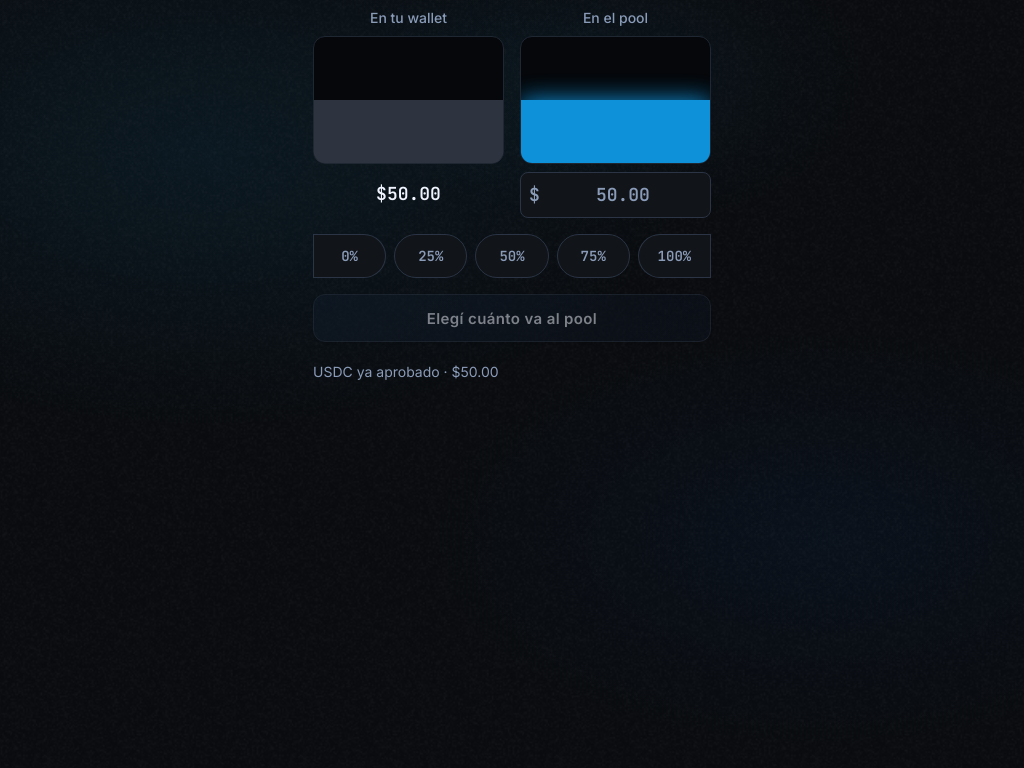
Test case: MoveScreen › clearing the input goes back to rest
Type "60" into the field named "Cuánto querés tener en el pool" at (623, 195), box [544, 173, 702, 217]
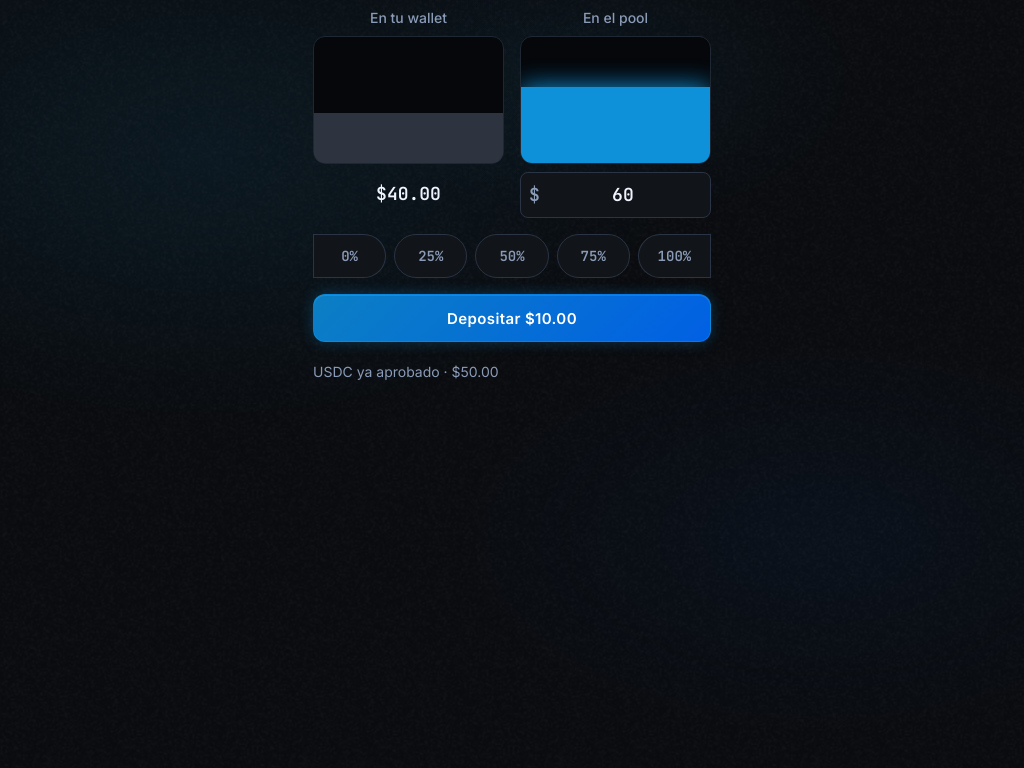
Clear the field named "Cuánto querés tener en el pool" at (623, 195), box [544, 173, 702, 217]
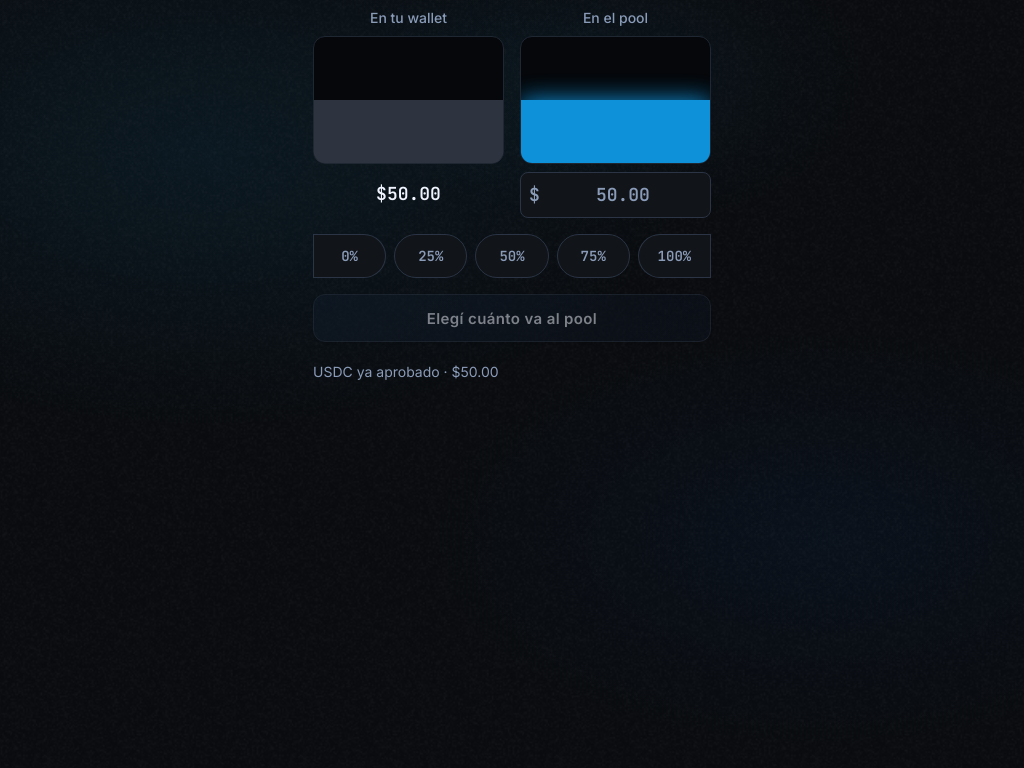
expect the button "Elegí cuánto va al pool" is disabled: met, box [313, 294, 711, 342]
